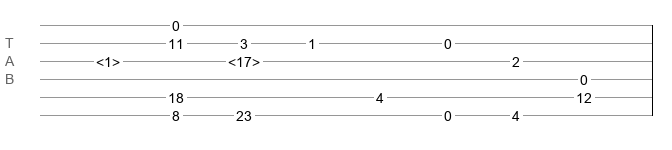0: (172, 18, 180, 28), (444, 108, 452, 118), (444, 36, 452, 46), (580, 72, 588, 82)
1: (308, 36, 316, 46)
11: (168, 36, 184, 46)
12: (576, 90, 592, 100)
18: (168, 90, 184, 100)
2: (512, 54, 520, 64)
23: (236, 108, 252, 118)
3: (240, 36, 248, 46)
4: (376, 90, 384, 100), (512, 108, 520, 118)
8: (172, 108, 180, 118)
harmonic: (228, 54, 260, 64), (96, 54, 120, 64)
